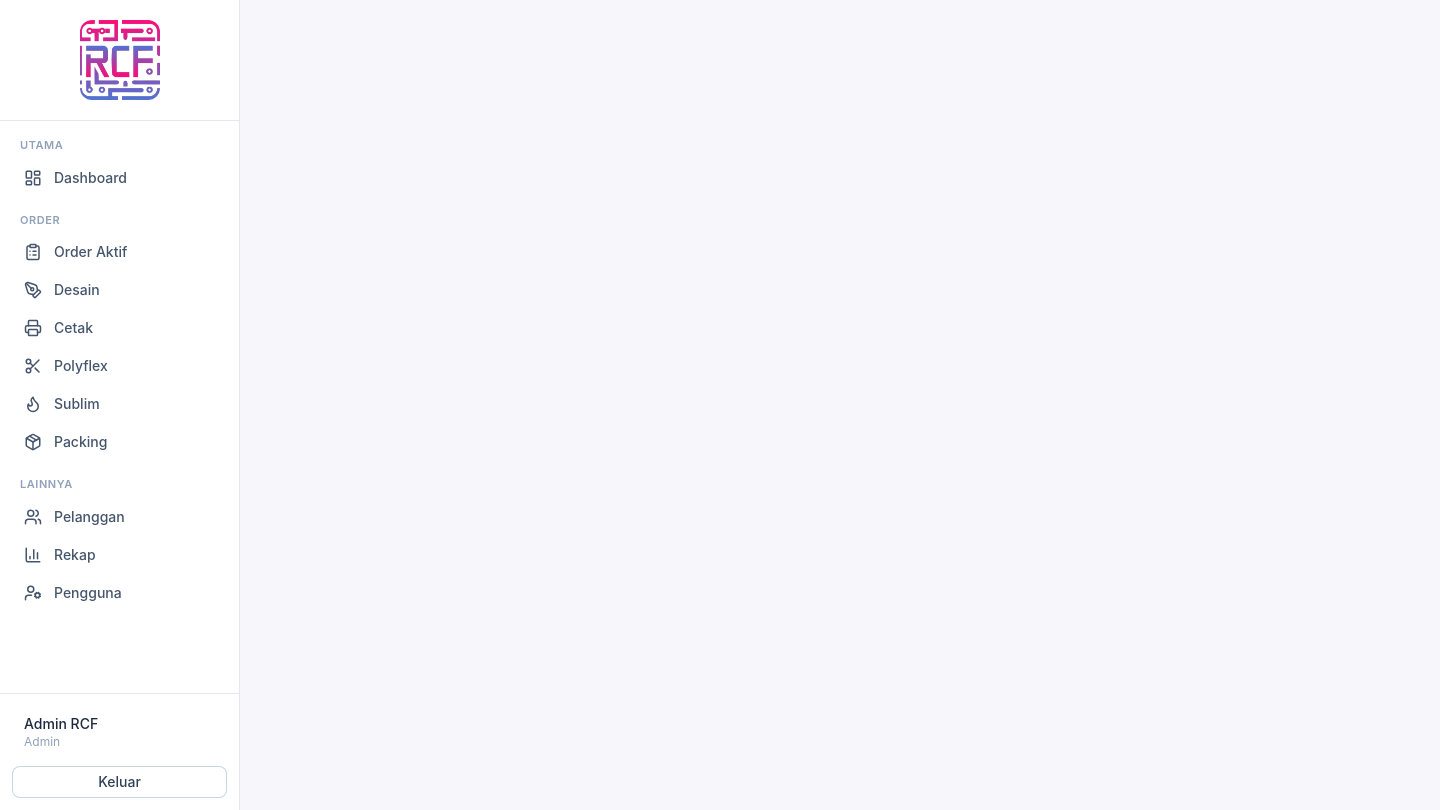
Test case: AppLayout — konfirmasi logout › tidak langsung logout saat tombol Keluar ditekan, hanya buka dialog
This screenshot has width=1440, height=810.
Click the button "Keluar": (120, 782) x1=12 y1=766 x2=227 y2=798
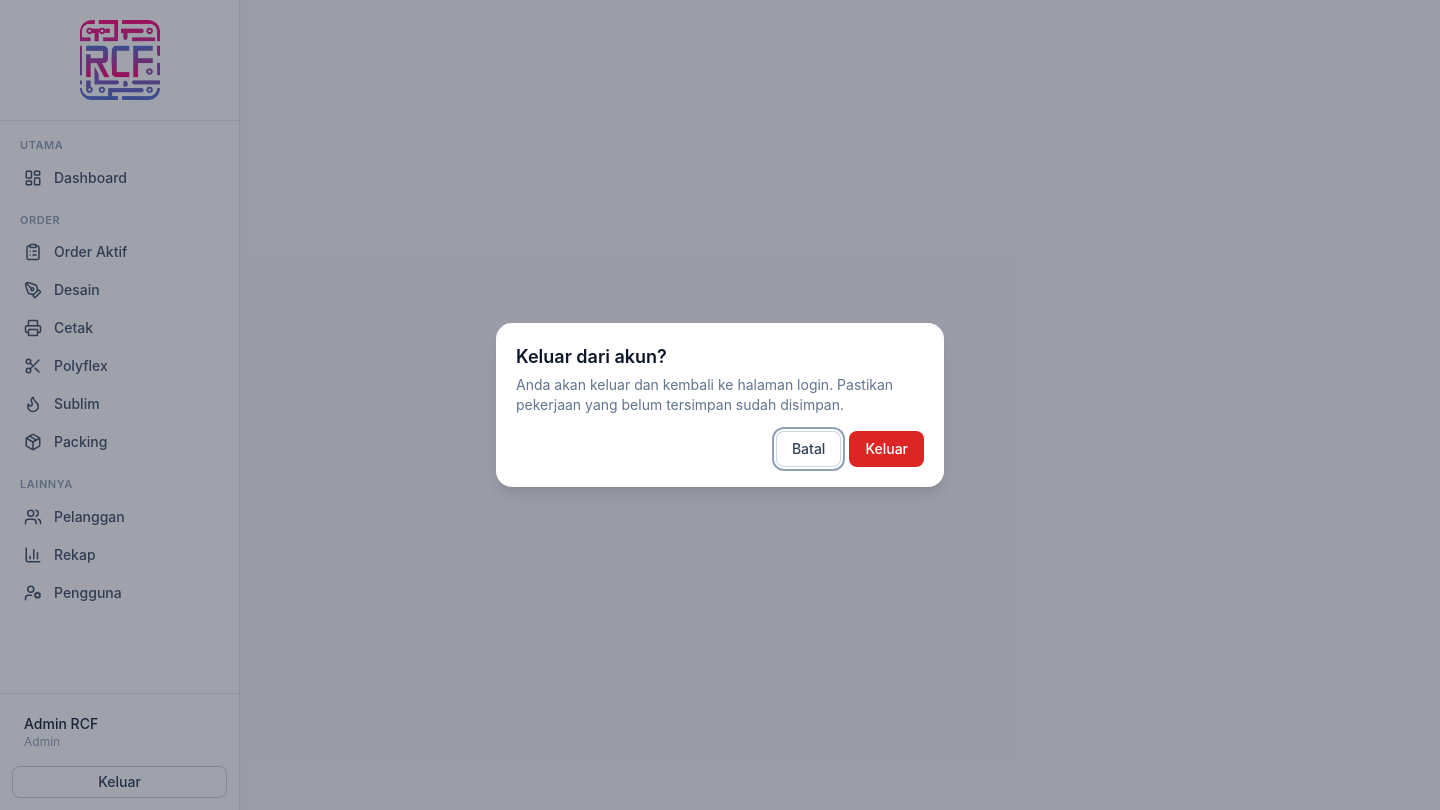
expect the heading "Keluar dari akun?" is shown: met, box x1=516 y1=346 x2=667 y2=367
